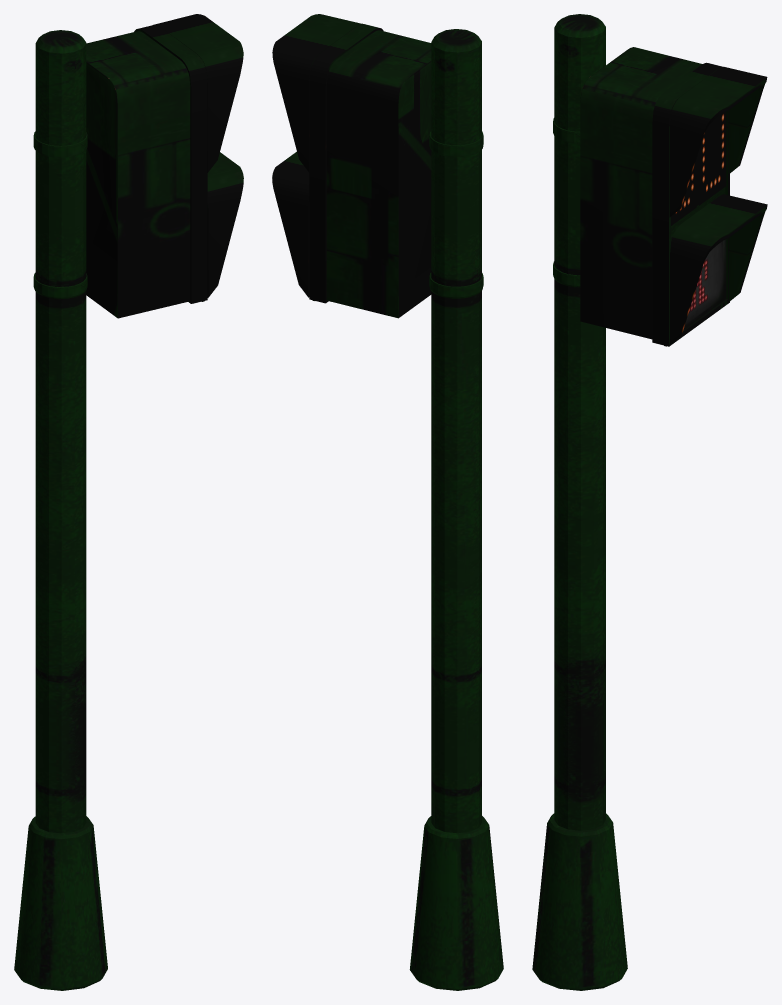
File: Trafficlight02.fbx
The picture shows the model from 3 angles, left to right: view 1: azimuth 30°, elevation 25°; view 2: azimuth 150°, elevation 25°; view 3: azimuth 330°, elevation 25°; orthographic projection.
Visible parts, largest first — view 1: polymsh, Group001; view 2: polymsh, Group001; view 3: polymsh, Group001.
Part boxes in pixels (x1,y1,x2,y2): polymsh: (14,30,107,990); Group001: (86,14,243,318); polymsh: (409,29,503,990); Group001: (272,14,431,318); polymsh: (532,14,627,990); Group001: (580,47,767,346).
Size of the model in its own units: 6.11 by 26.81 by 3.1.
